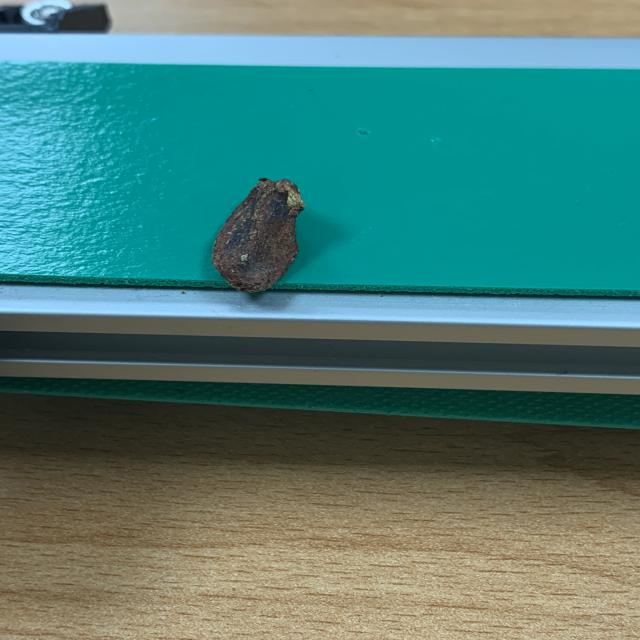Flat_cocoabeans: (156, 153, 427, 334)
